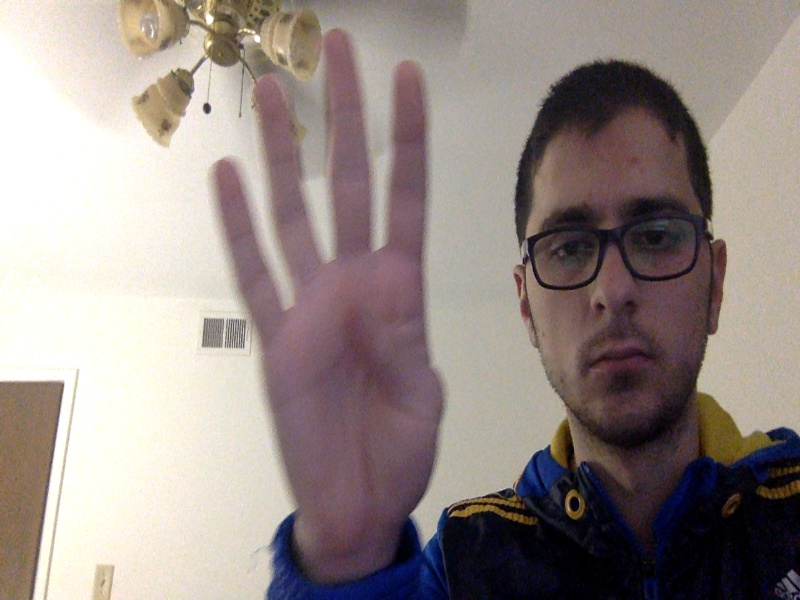4-hand: (212, 29, 444, 541)
